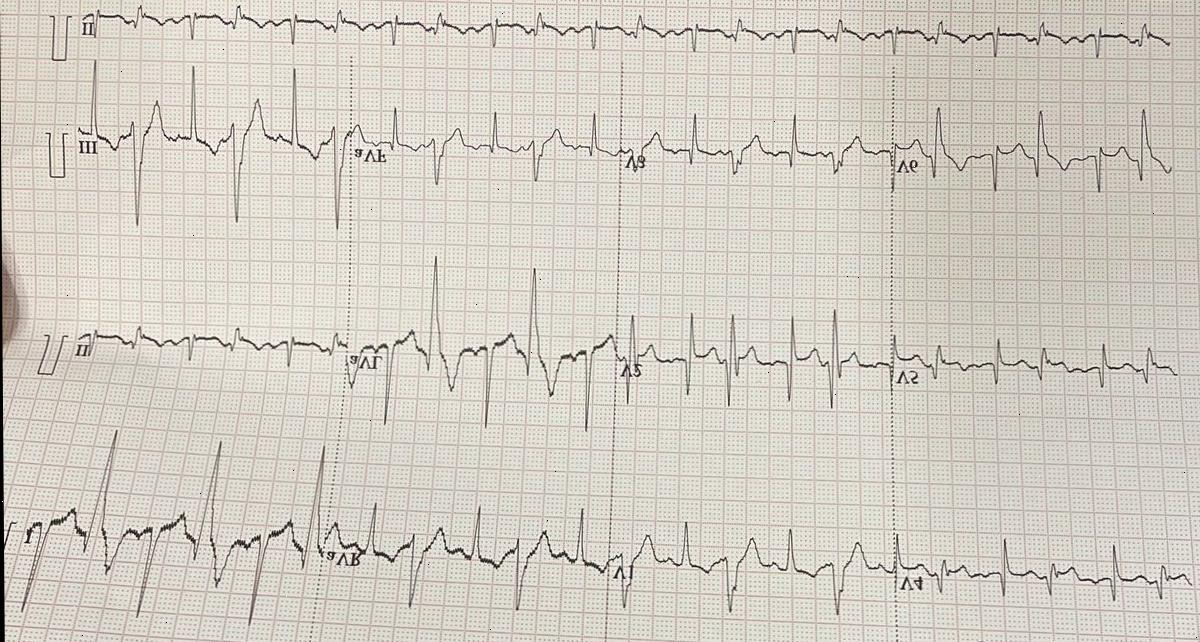Lead_I: (9, 412, 336, 638)
Lead_II: (69, 304, 348, 380)
Lead_III: (68, 52, 353, 232)
Lead_II_ext: (74, 0, 1180, 61)
Lead_V1: (612, 510, 899, 628)
Lead_V2: (615, 302, 893, 416)
Lead_V3: (618, 102, 894, 194)
Lead_V4: (898, 537, 1199, 612)
Lead_V5: (891, 328, 1186, 406)
Lead_V6: (893, 93, 1179, 198)
Lead_aVF: (351, 95, 621, 200)
Lead_aVL: (338, 250, 616, 444)
Lead_aVR: (321, 478, 612, 632)
